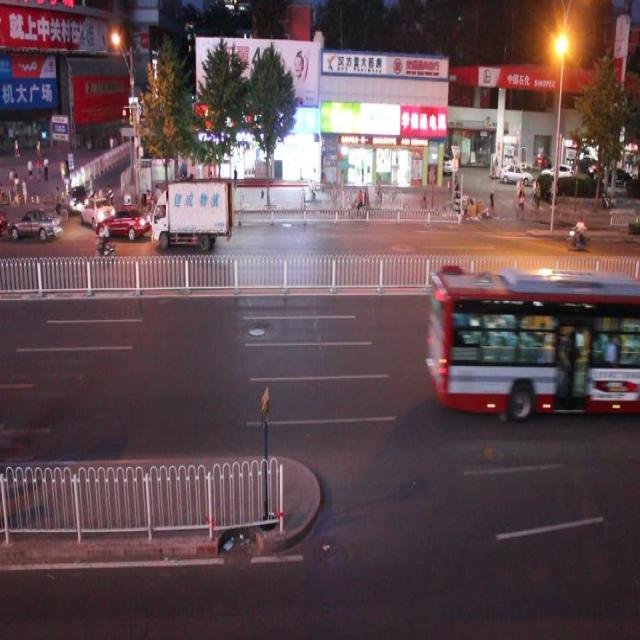bus: (150, 181, 233, 249)
car: (166, 185, 223, 232), (11, 202, 65, 241), (97, 207, 151, 240), (81, 196, 115, 228), (69, 183, 90, 215)
van: (429, 272, 640, 407)
